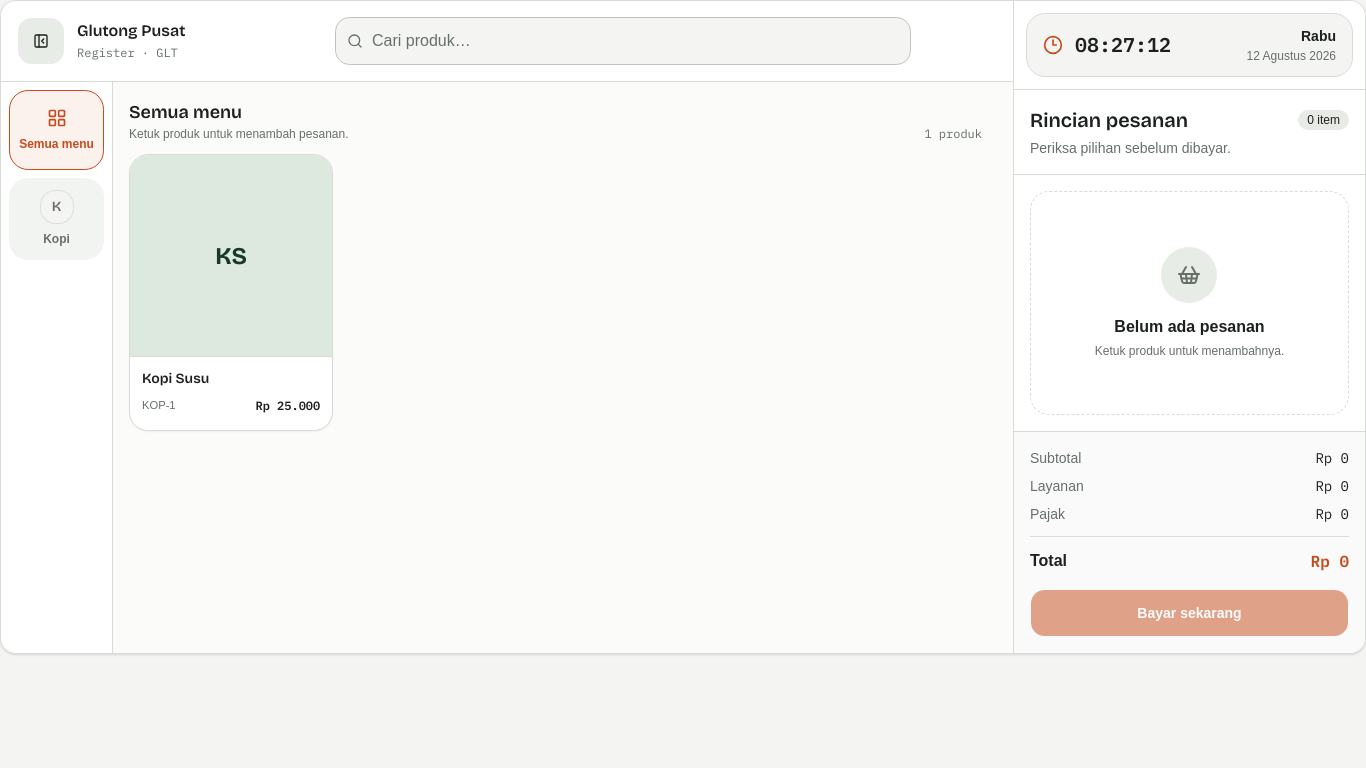
Scenario: POS register layout › edits and clears a new cart item note
The width and height of the screenshot is (1366, 768).
Click the button with aria-label "Tambah Kopi Susu ke pesanan": coordinates (231, 292) [129,154,333,431]
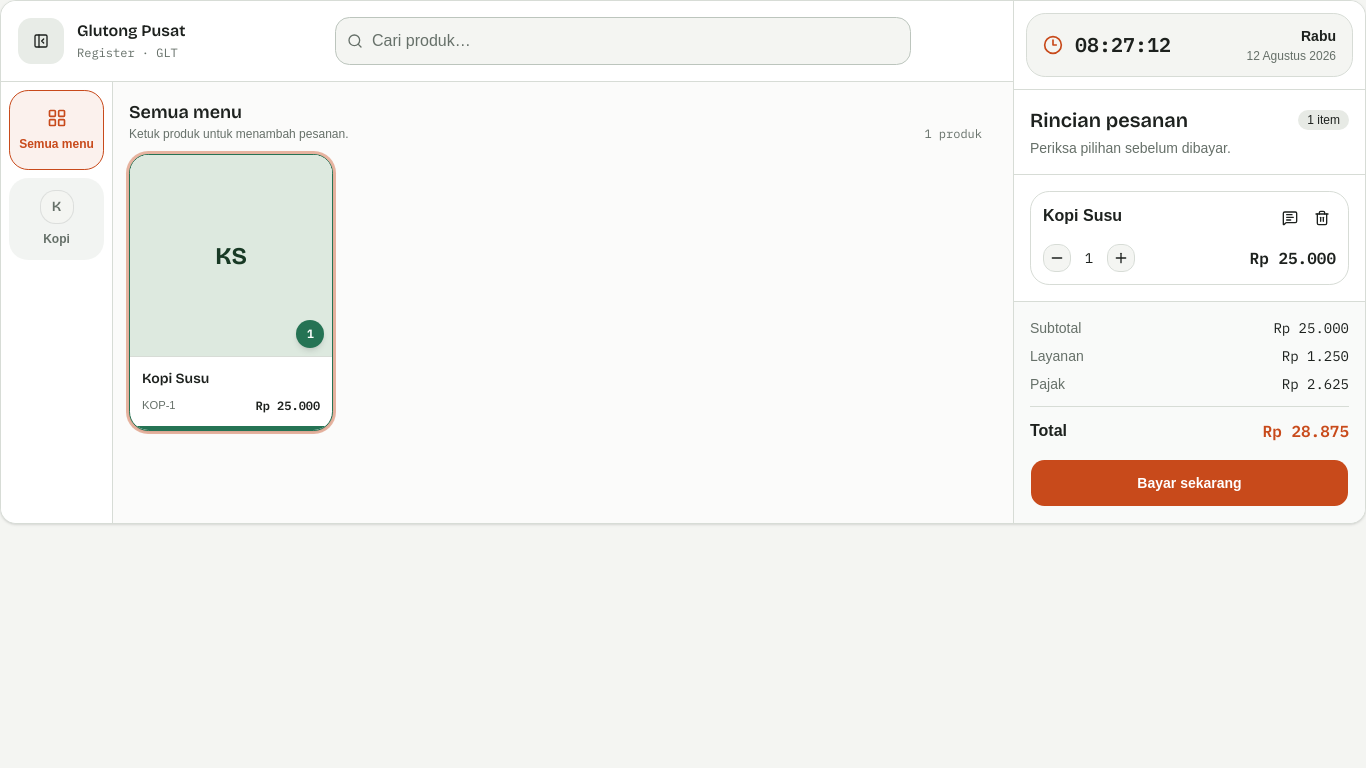
Click the button named "Ubah catatan Kopi Susu": coordinates (1290, 218) [1276,204,1304,232]
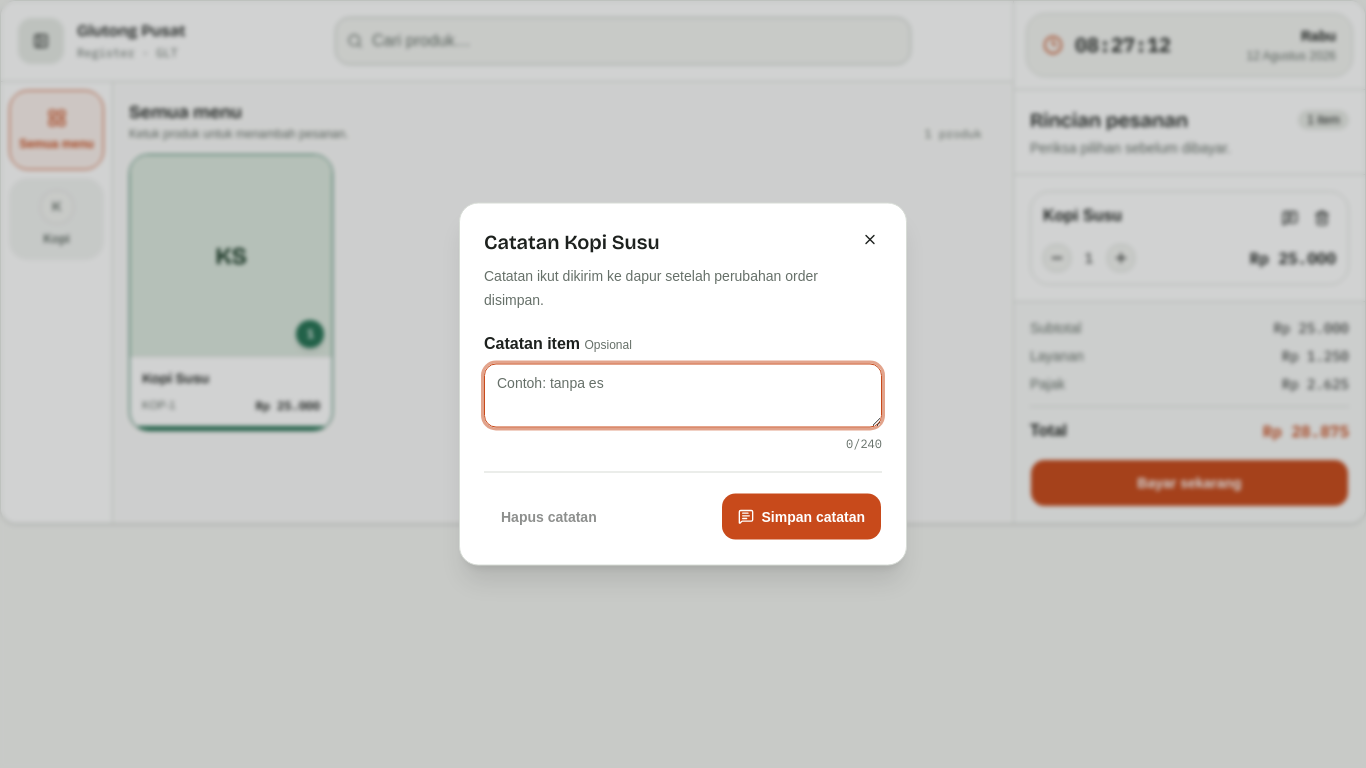
In the text box labelled "Catatan item Opsional 0/240": coordinates (683, 396) [484,364,882,428], type "Tanpa es"
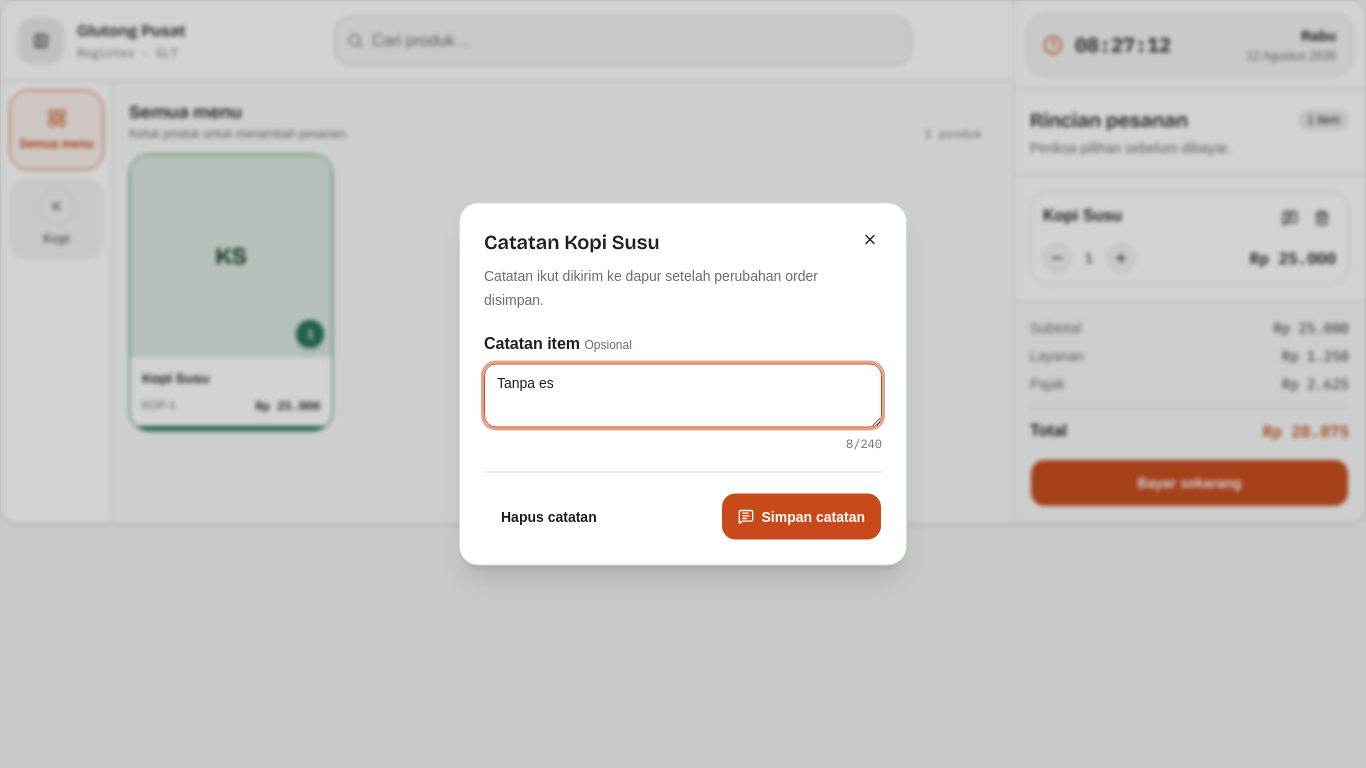
Click the button "Simpan catatan": coordinates (801, 516) [720,492,882,540]
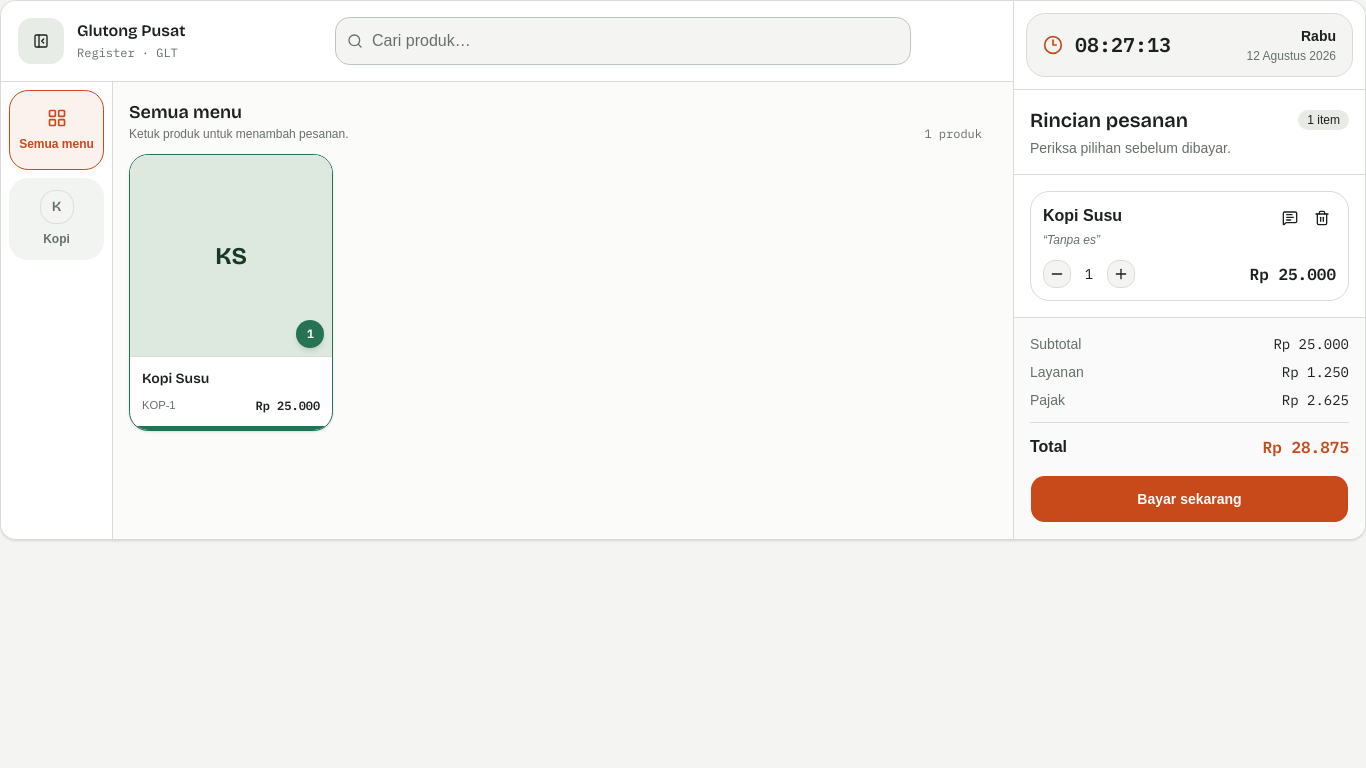
Now the text "“Tanpa es”" is shown, box [1043,233,1100,247]
Click the button named "Ubah catatan Kopi Susu": coordinates (1290, 218) [1276,204,1304,232]
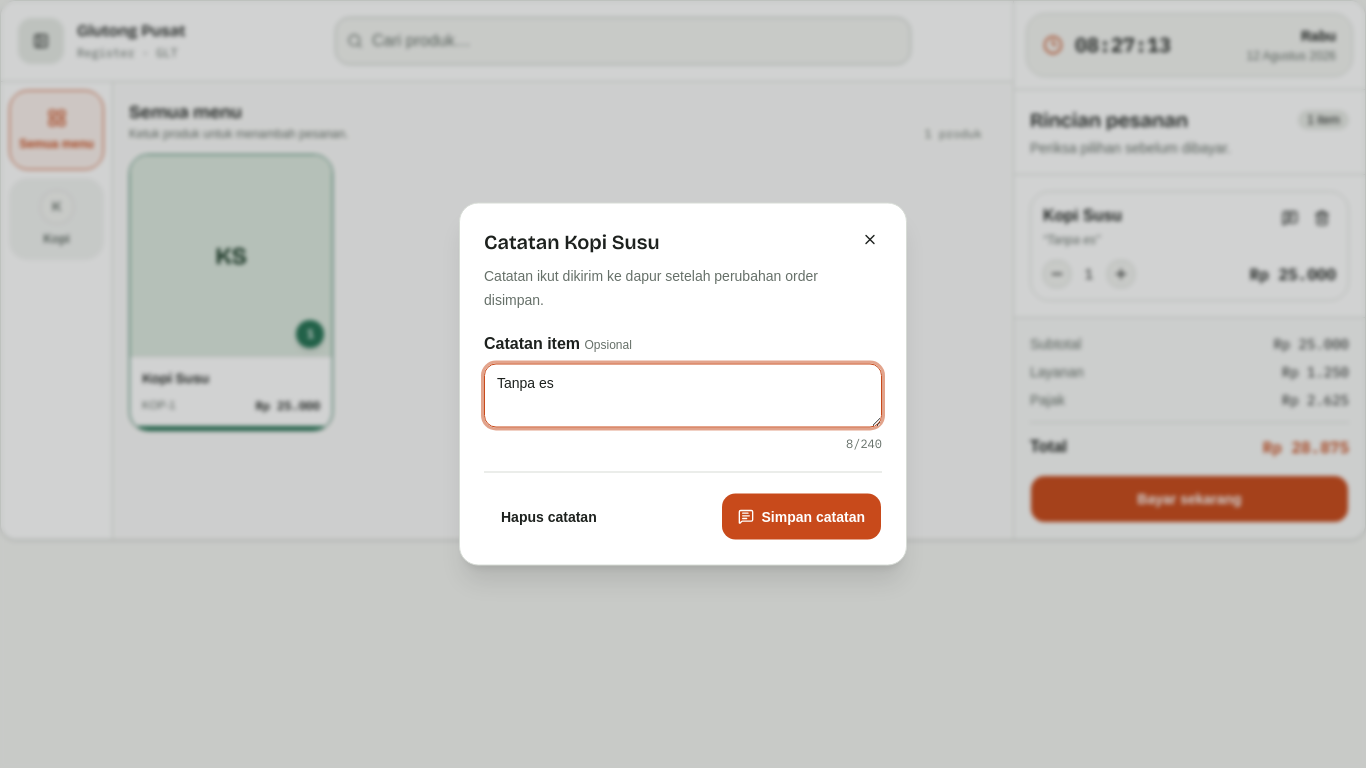
Click the button "Hapus catatan": coordinates (549, 516) [484,492,614,540]
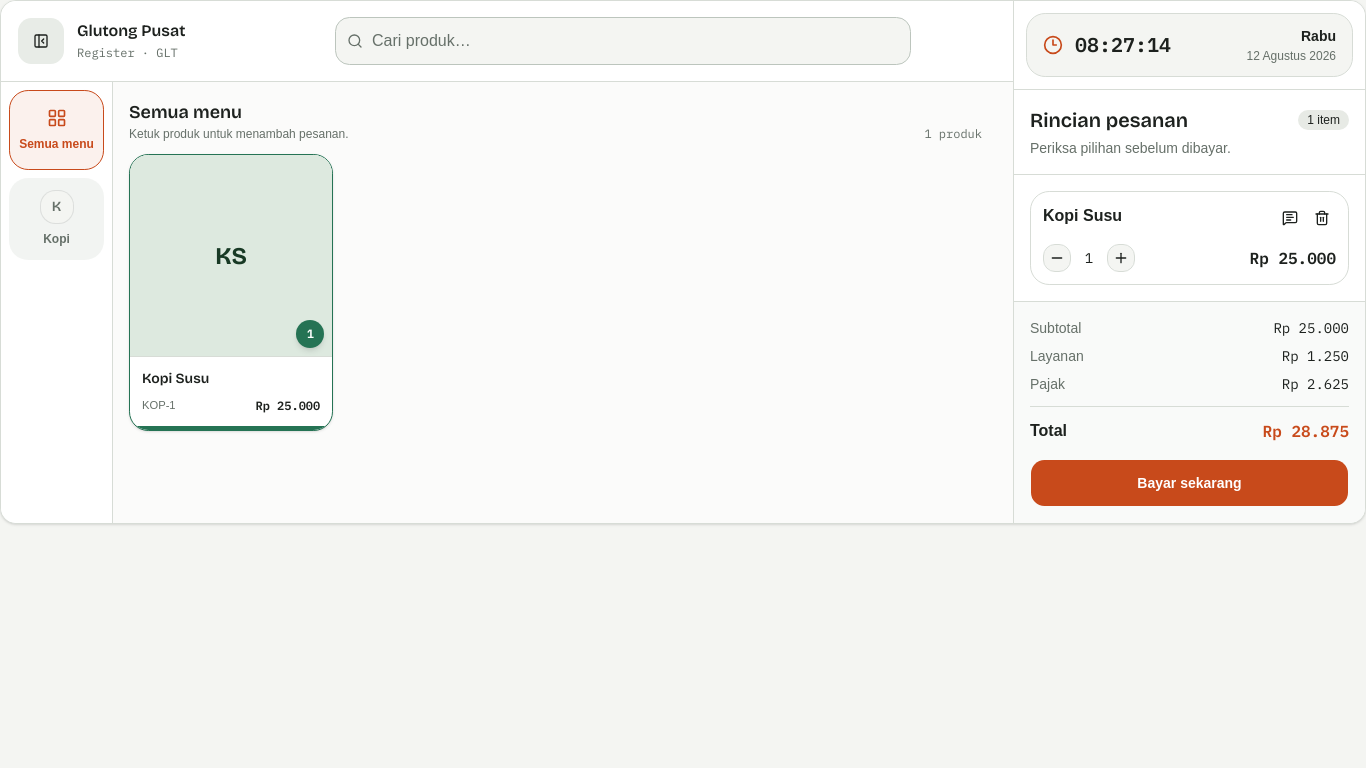
Now the text "“Tanpa es”" is gone
